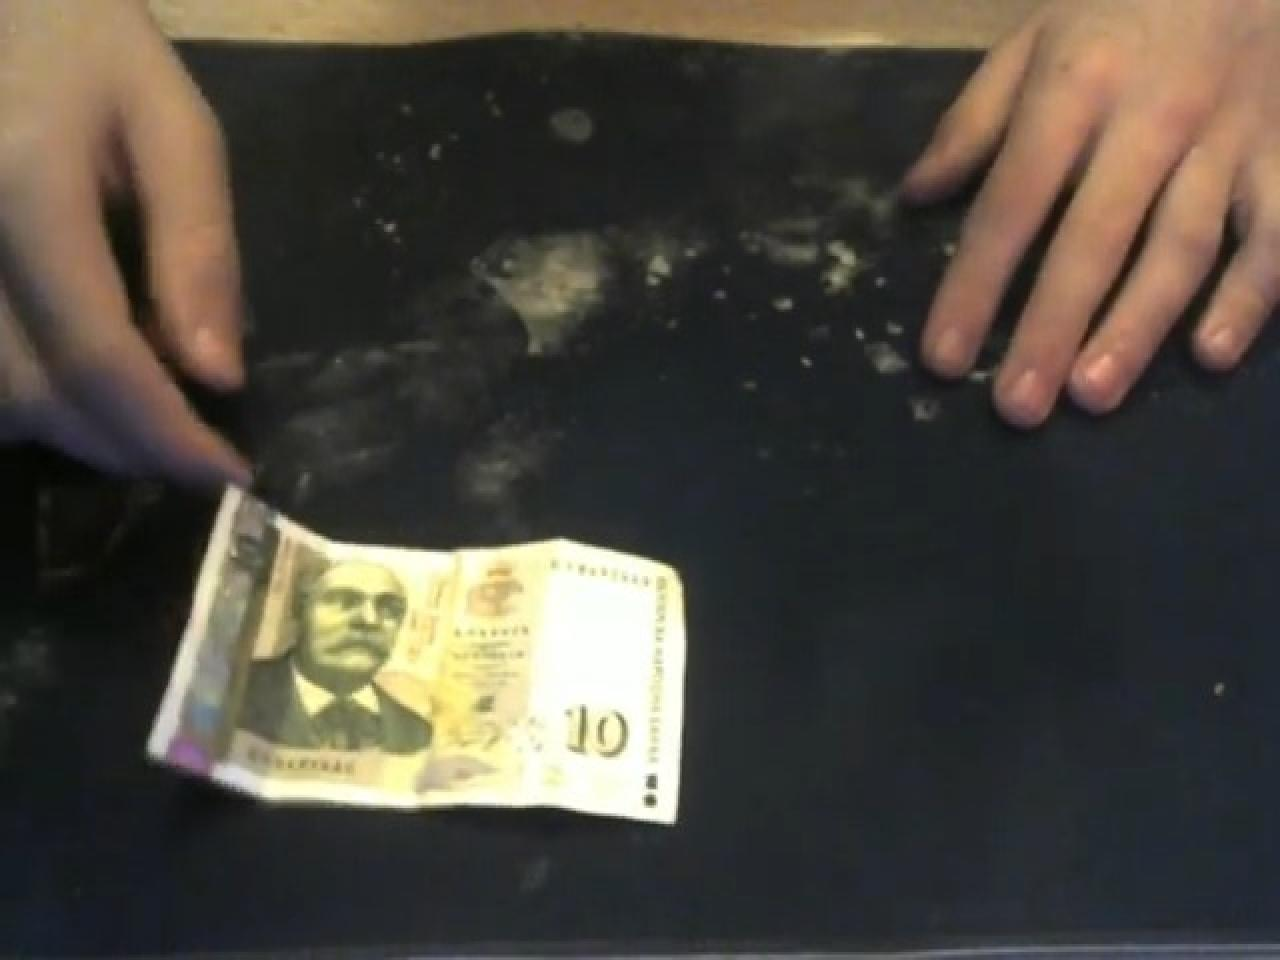10leva: (548, 687, 630, 766)
